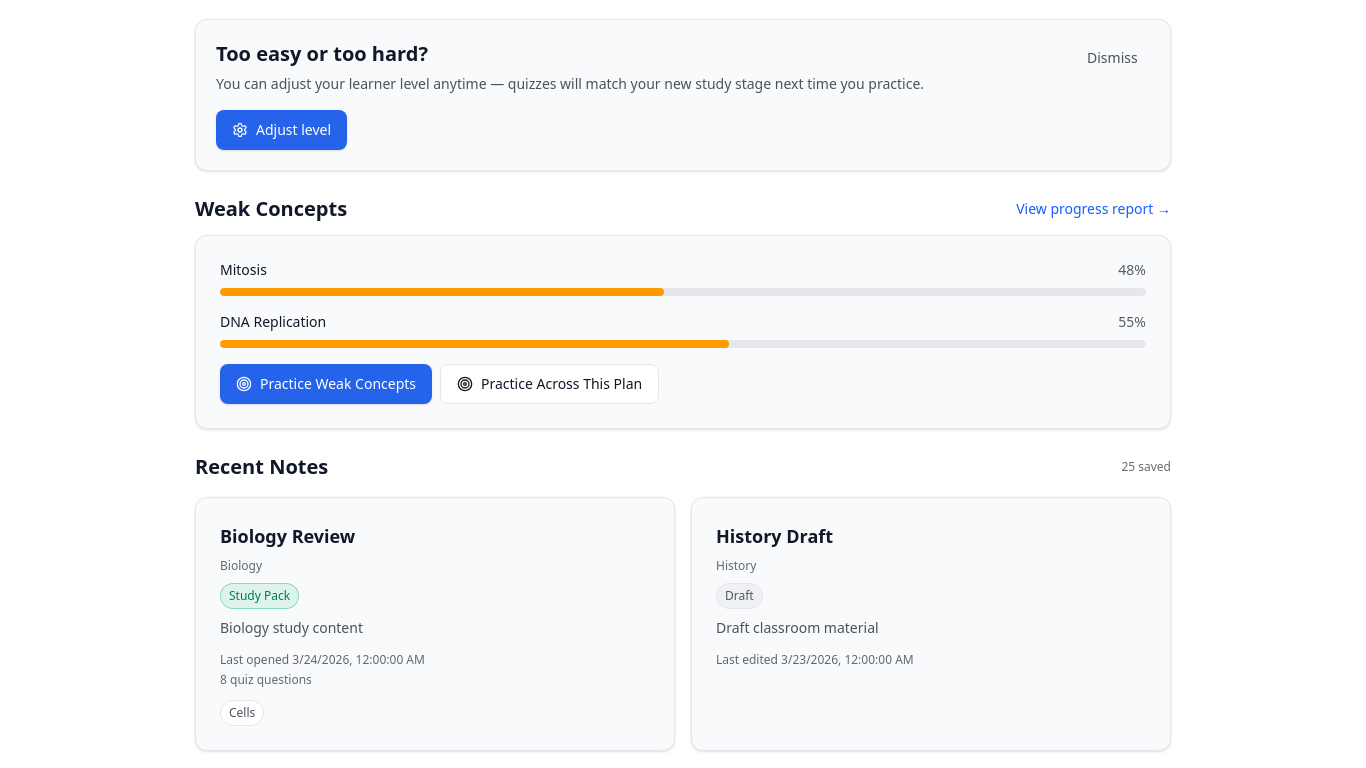
Test: DashboardPage profile variants › tells the learner why plan practice did not start, instead of silently doing nothing
(page scrolled)
Step 1. Click the button "Practice Across This Plan" → coordinates (550, 384), box [440,364,659,404]
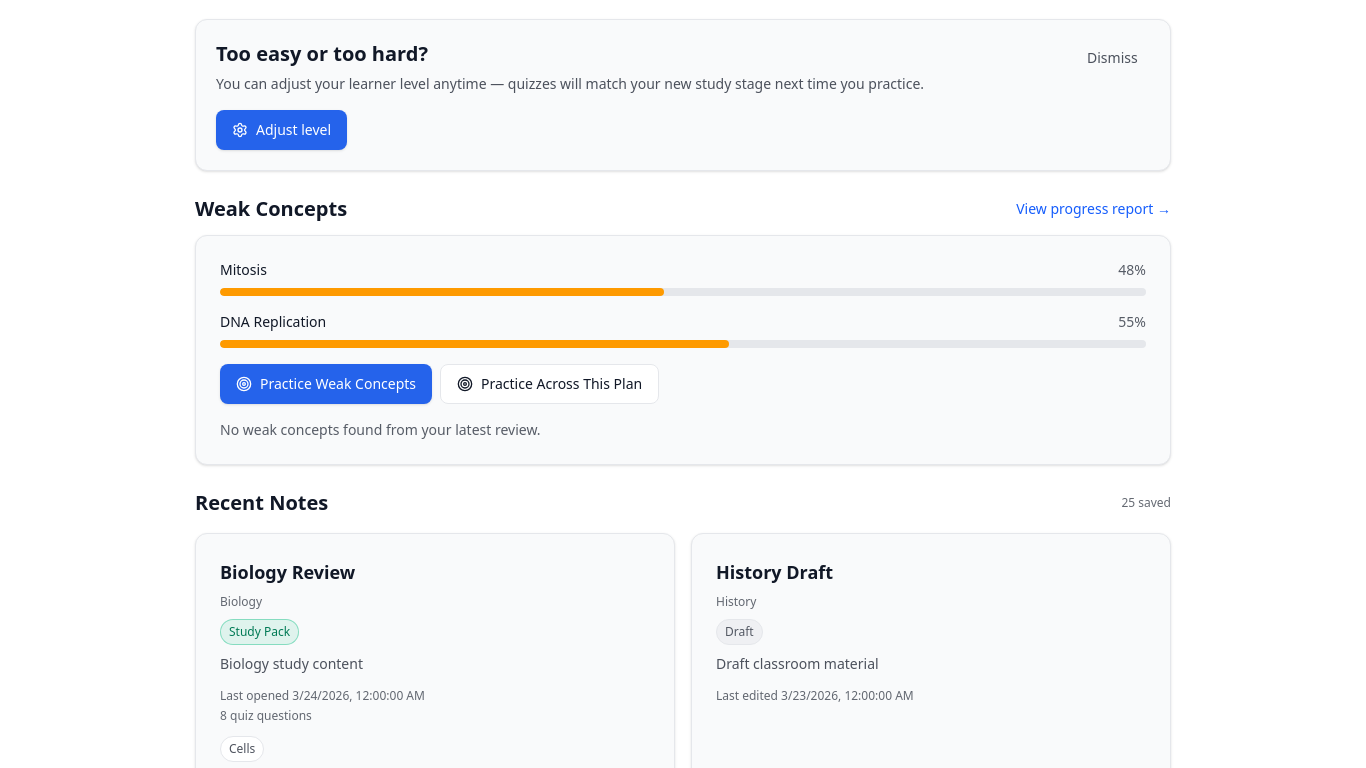
Expected: the text "No weak concepts found from your latest review." is shown, [220,420,541,439]
